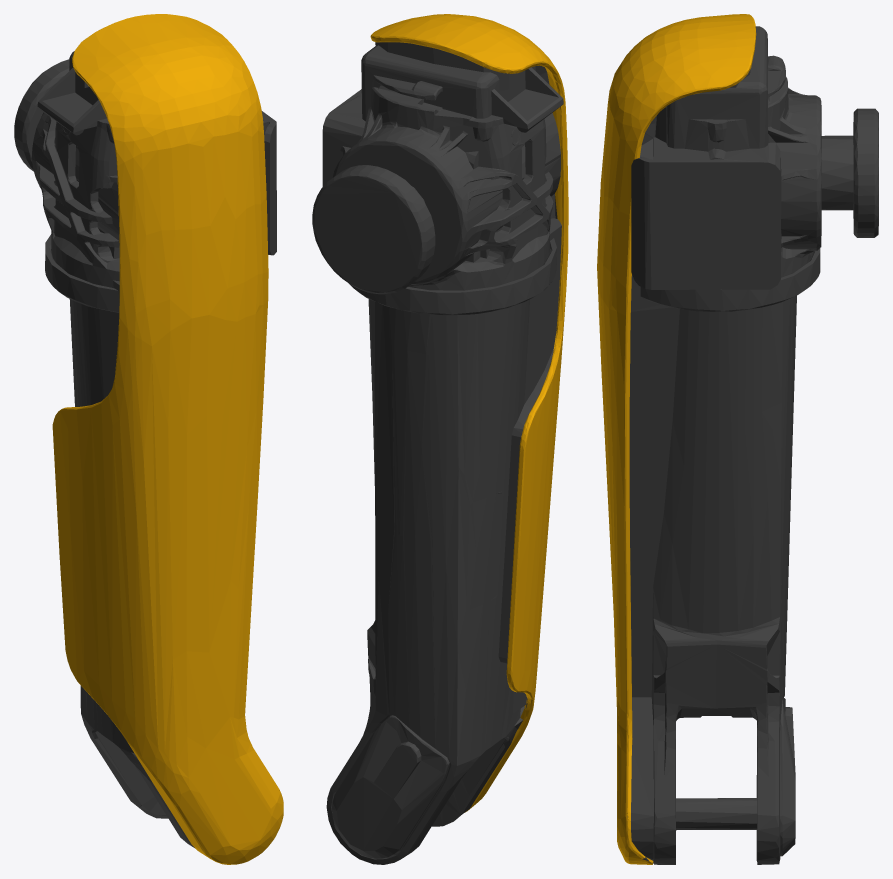
The model's file is front_right_upper_leg.dae.
3 renders of one model, left to right at view 1: azimuth 30°, elevation 25°; view 2: azimuth 150°, elevation 25°; view 3: azimuth 270°, elevation 25°, orthographic. The views are drawn at different scales.
Parts seen in each view (by area): view 1: front_right_upper_leg; view 2: front_right_upper_leg; view 3: front_right_upper_leg.
Part boxes in pixels (x1=…): front_right_upper_leg: x1=14, y1=14, x2=283, y2=864; front_right_upper_leg: x1=312, y1=14, x2=568, y2=864; front_right_upper_leg: x1=597, y1=14, x2=878, y2=864.
Bounding box in the file's own units: 0.1011 × 0.1323 × 0.4184.
